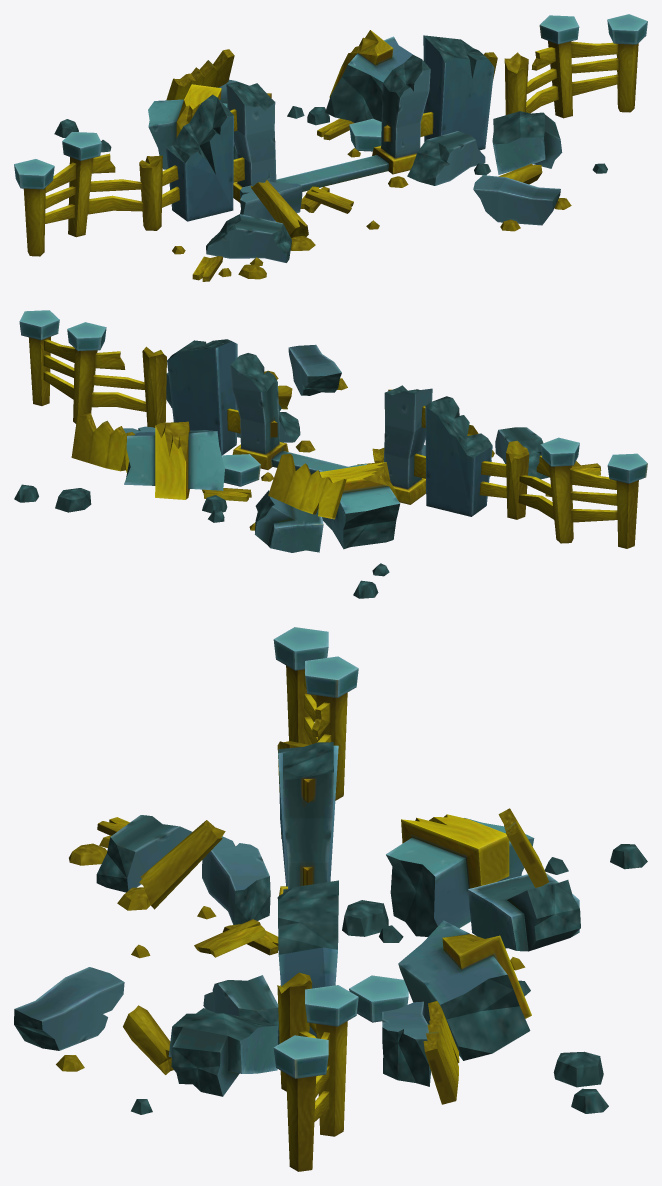
The model's file is tenkei_gate02d.obj.
3 renders of one model, top to bottom at view 1: azimuth 30°, elevation 25°; view 2: azimuth 150°, elevation 25°; view 3: azimuth 270°, elevation 25°, orthographic. The views are drawn at different scales.
Visible parts, largest first — view 1: tenkei_gate02d.001; view 2: tenkei_gate02d.001; view 3: tenkei_gate02d.001.
Boxes of the visible parts, left/top/right/bottom form: tenkei_gate02d.001: left=14, top=14, right=647, bottom=281; tenkei_gate02d.001: left=14, top=310, right=647, bottom=598; tenkei_gate02d.001: left=14, top=627, right=647, bottom=1171.
Bounding box in the file's own units: 8.17 × 1.45 × 5.06.
1 material, 1 textured.
